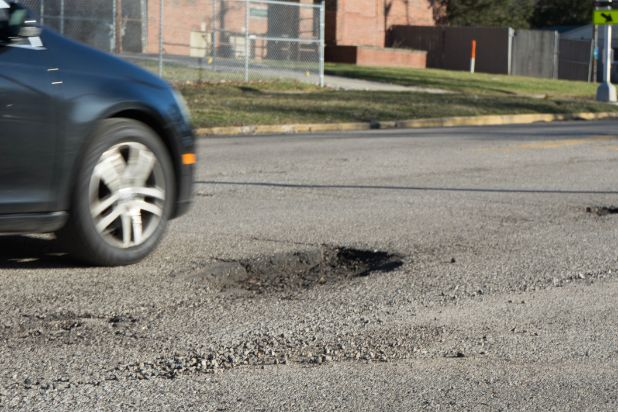pothole: (191, 241, 413, 299)
